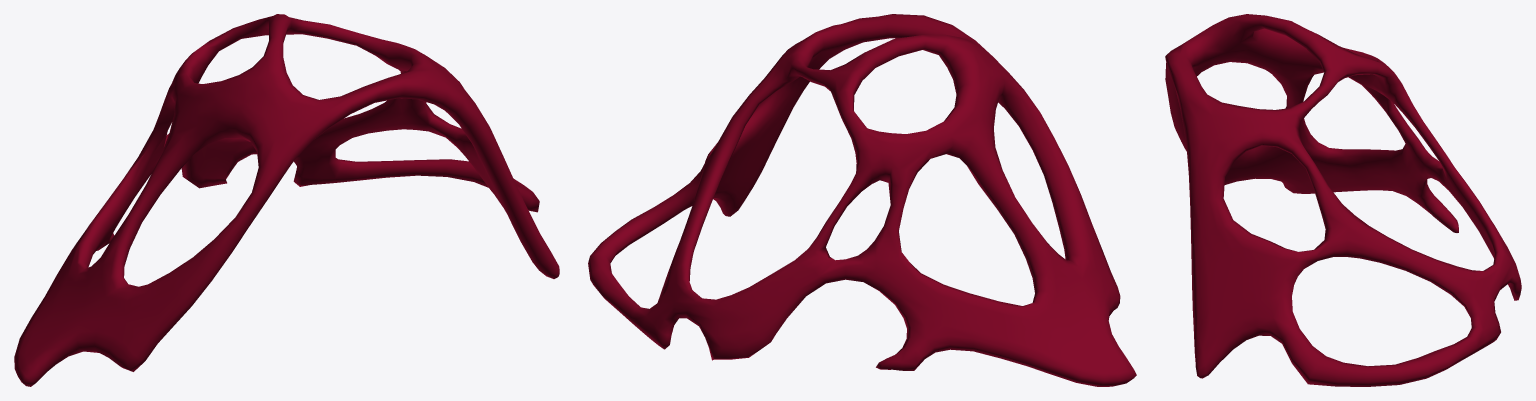
File: SM_Corail_01.fbx
The picture shows the model from 3 angles, left to right: view 1: azimuth 30°, elevation 25°; view 2: azimuth 150°, elevation 25°; view 3: azimuth 270°, elevation 25°; orthographic projection. The views are drawn at different scales.
Visible parts, largest first — view 1: Plaque_corail_01_low; view 2: Plaque_corail_01_low; view 3: Plaque_corail_01_low.
Part boxes in pixels (x1,y1,x2,y2): Plaque_corail_01_low: (14,14,559,386); Plaque_corail_01_low: (588,14,1136,386); Plaque_corail_01_low: (1165,14,1521,386).
Size of the model in its own units: 235 by 129 by 149.
